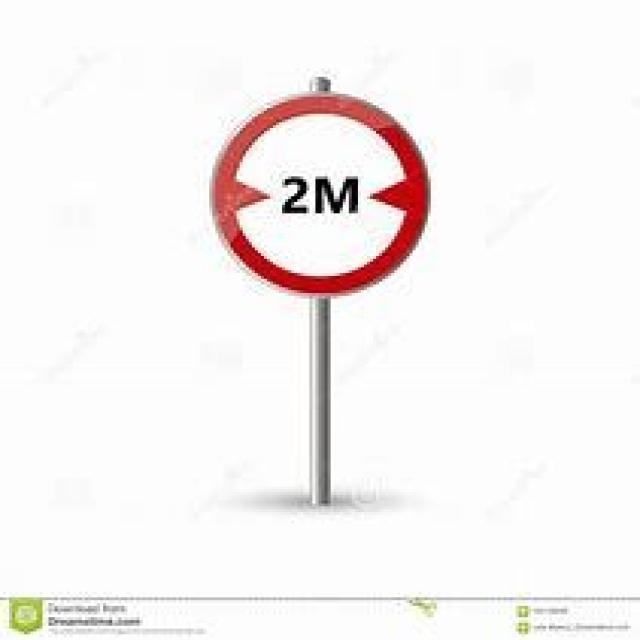width limit: (209, 91, 433, 299)
